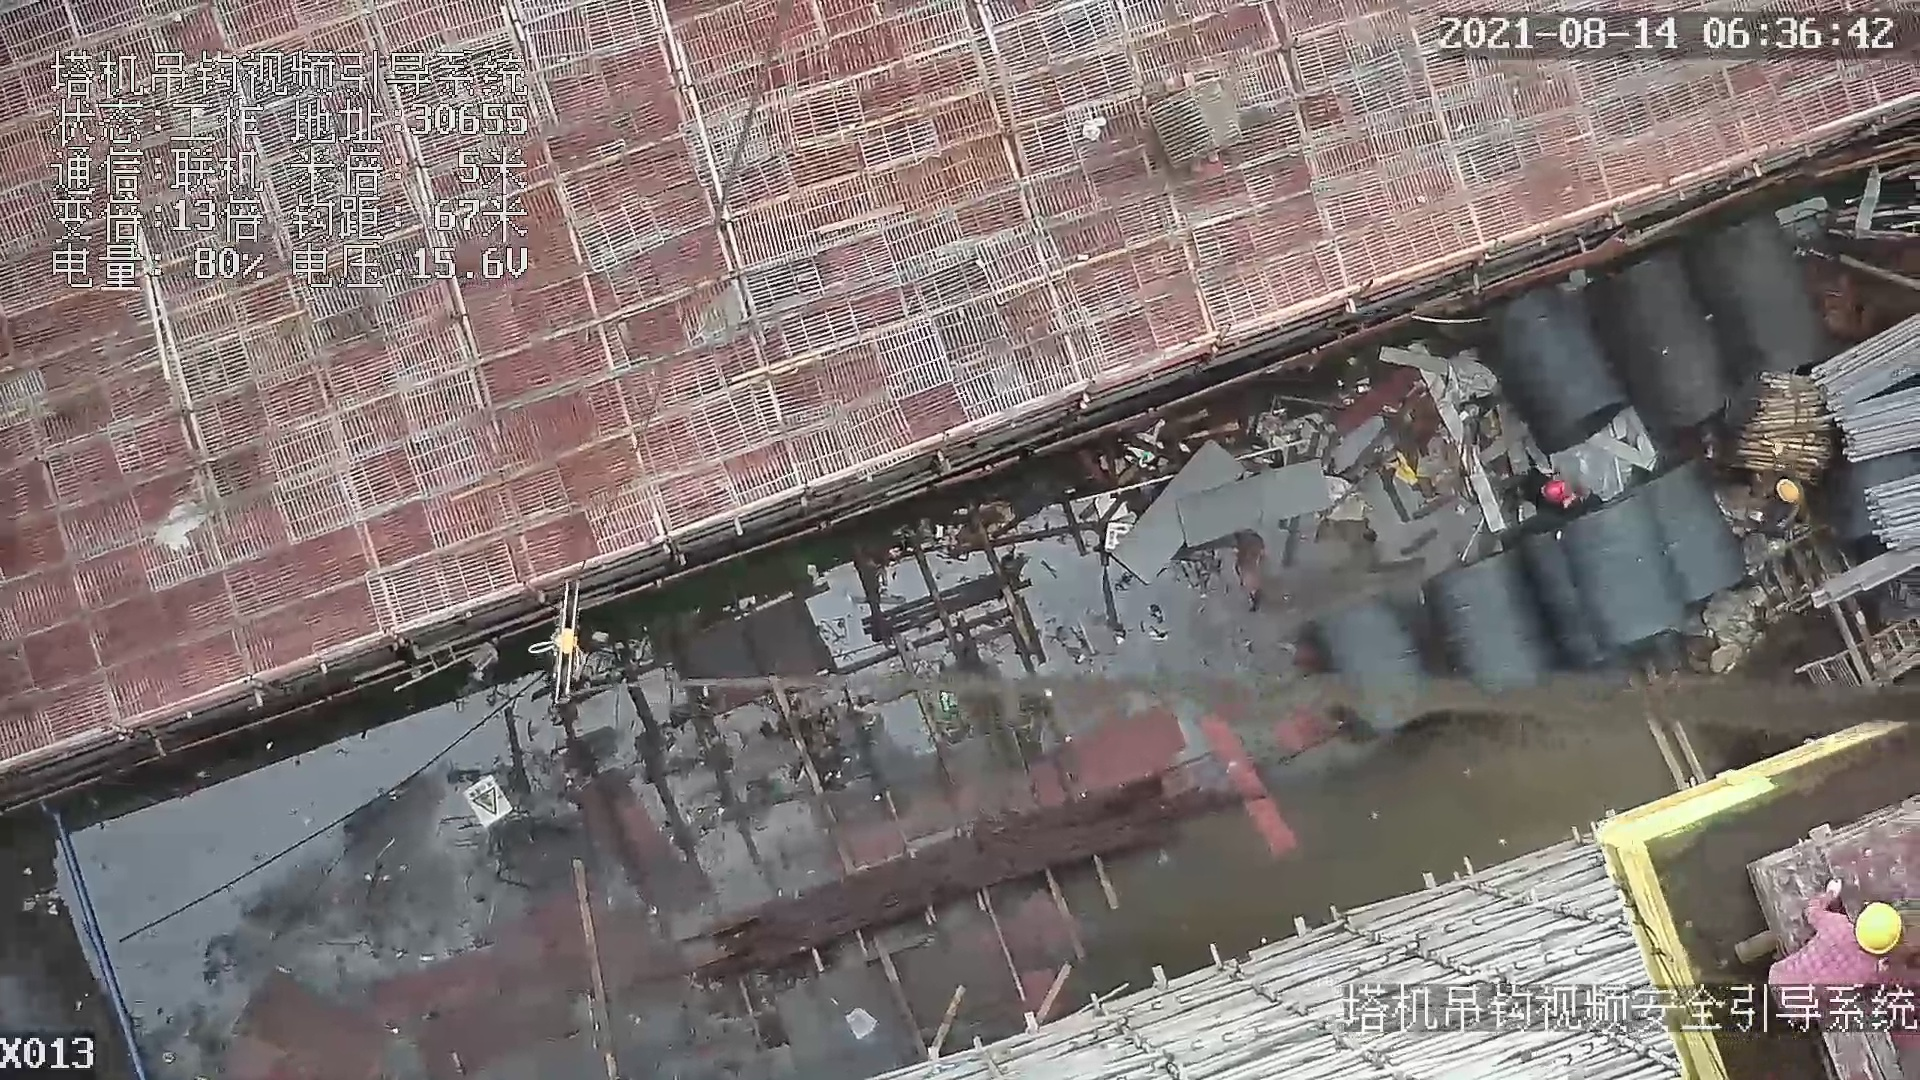helmet: (1846, 896, 1903, 959), (1537, 480, 1572, 505), (1779, 478, 1801, 504)
hook: (526, 574, 599, 701)
person: (1736, 856, 1912, 1026)
scaffold: (1732, 347, 1838, 486)
